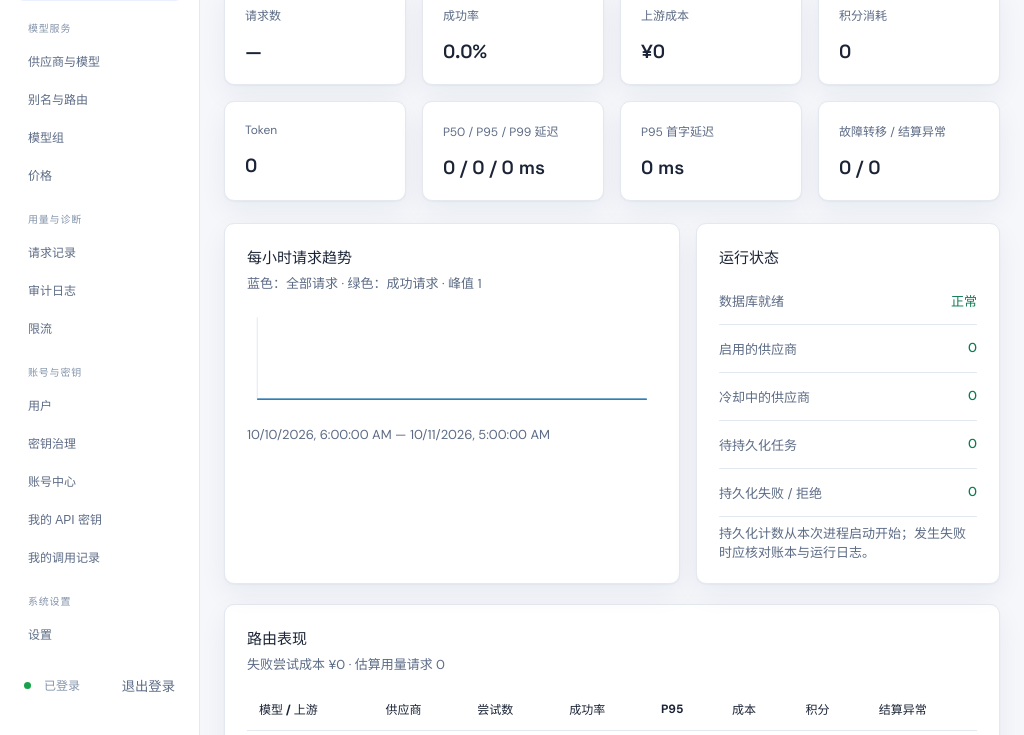
Scenario: 设置区域仅管理员可见可操作 › 管理员侧栏出现「设置」，点击后加载并渲染主 OIDC Provider 表单
(page scrolled)
Click the button "设置". click: (100, 634)
box: [16, 616, 183, 651]
(page scrolled)
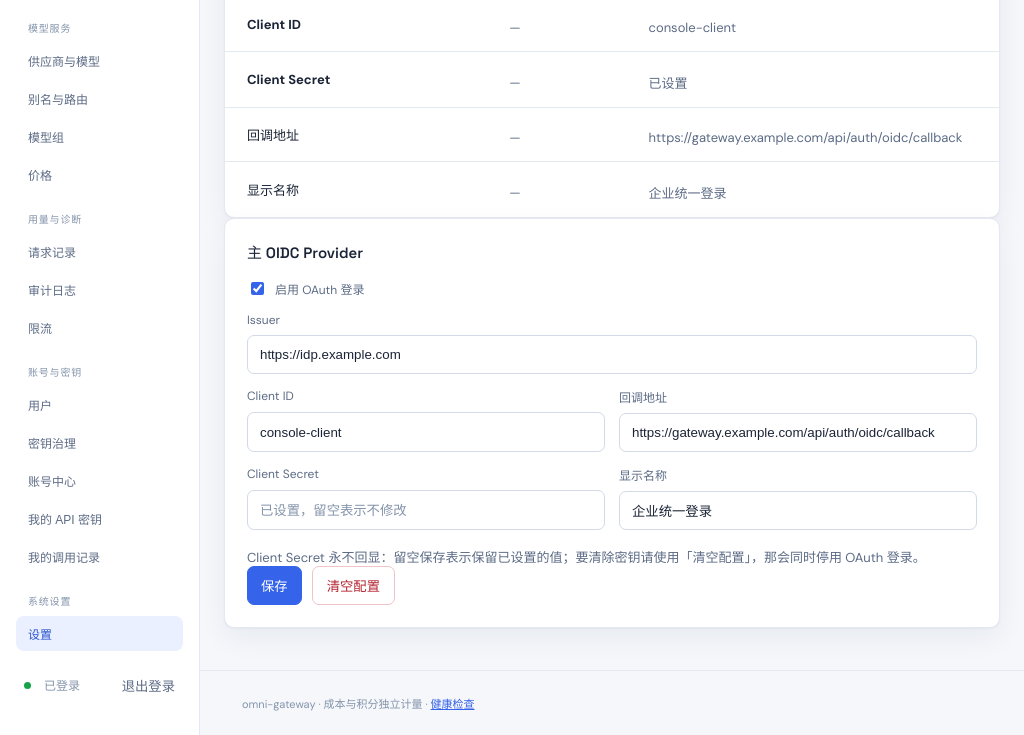
Expected: the element with class "shell" shows "主 OIDC Provider", [247, 243, 363, 262]
Expected: the element with class "shell" shows "企业统一登录", [648, 185, 726, 202]
Expected: the button "保存" is enabled, [247, 566, 302, 605]
